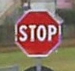stop: (13, 10, 62, 57)
